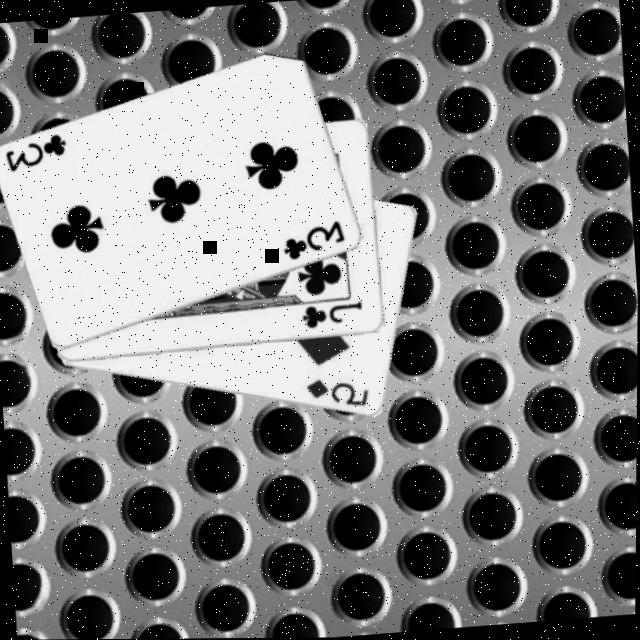3C: (278, 214, 348, 262), (0, 128, 70, 173)
5D: (302, 371, 371, 412)
JC: (298, 296, 366, 331)
